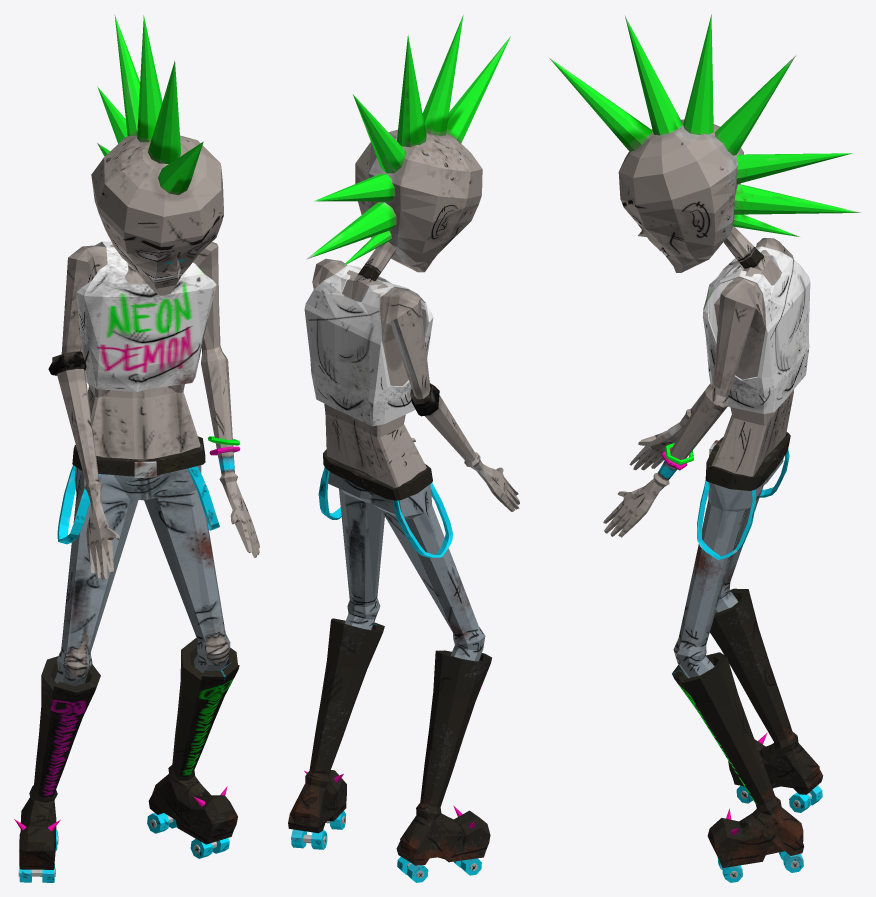
Rendered from punkAnimation_000011.obj.
3 views of the same model, side by side, from view 1: azimuth 30°, elevation 25°; view 2: azimuth 150°, elevation 25°; view 3: azimuth 270°, elevation 25° (orthographic). The views are drawn at different scales.
Visible parts, largest first — view 1: Cube.004_Cube.003; view 2: Cube.004_Cube.003; view 3: Cube.004_Cube.003.
Boxes of the visible parts, bbox=[...] form: Cube.004_Cube.003: bbox=[14, 14, 259, 882]; Cube.004_Cube.003: bbox=[288, 15, 519, 882]; Cube.004_Cube.003: bbox=[549, 14, 861, 882].
Size of the model in its own units: 1.82 by 7.34 by 2.52.
